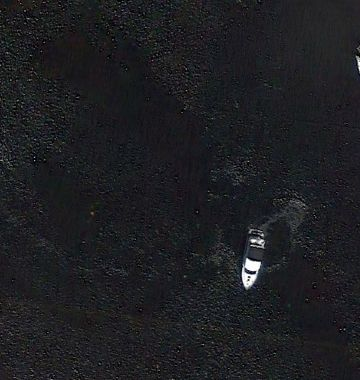boat: (238, 225, 268, 292)
